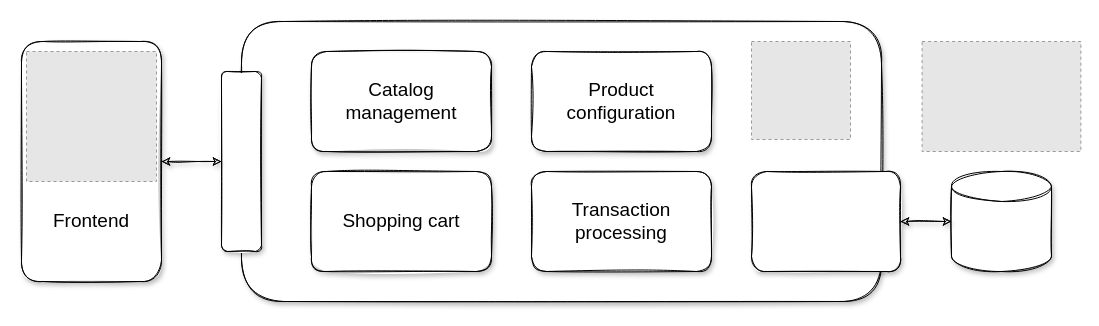
Some shapes in this 1099 by 326 pixel diagram are drawn without their labels. Grey dashed boxes stand in for pictures. The shapes that lost their labels are listed below. From the top down, each one's centre as x and y in pixels, then its label:
point 242,162: API
point 826,222: DB Client
